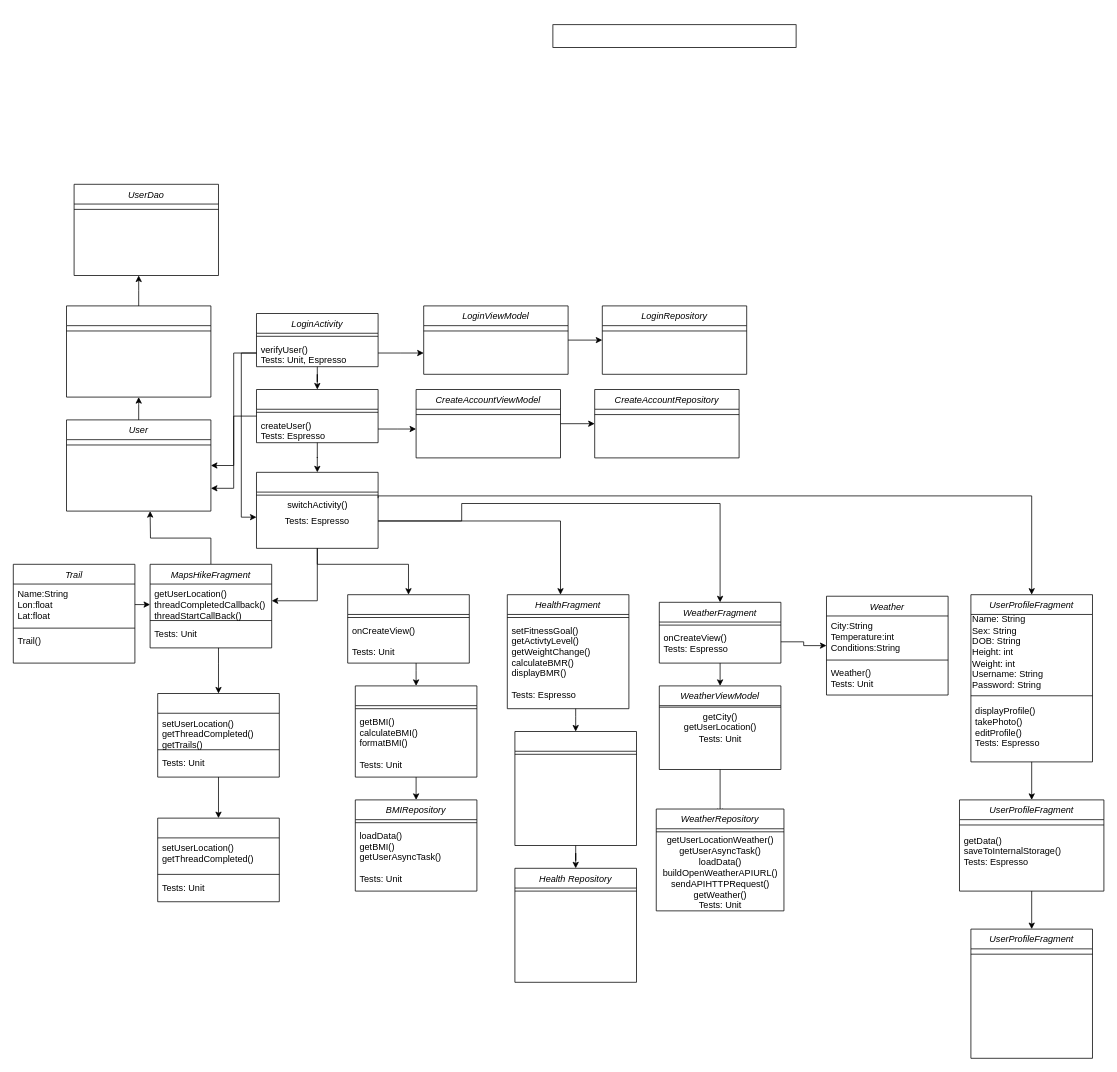
Image size: 1117x1072. Some labels were removed from this diagram. Here are the shapes that lost their labels. From the top down, the box of each, then its label:
(552, 24, 796, 48): Class and Testing Diagram
(66, 305, 211, 397): User Repo
(256, 389, 378, 443): CreateAccountActivity
(256, 472, 378, 548): MainDrawerActivity
(347, 594, 469, 663): BMIFragment
(157, 693, 279, 777): MapsHikeViewModel
(355, 685, 477, 777): BMIViewModel
(514, 731, 636, 846): HealthViewModel
(157, 817, 279, 902): MapsHikeRepository
